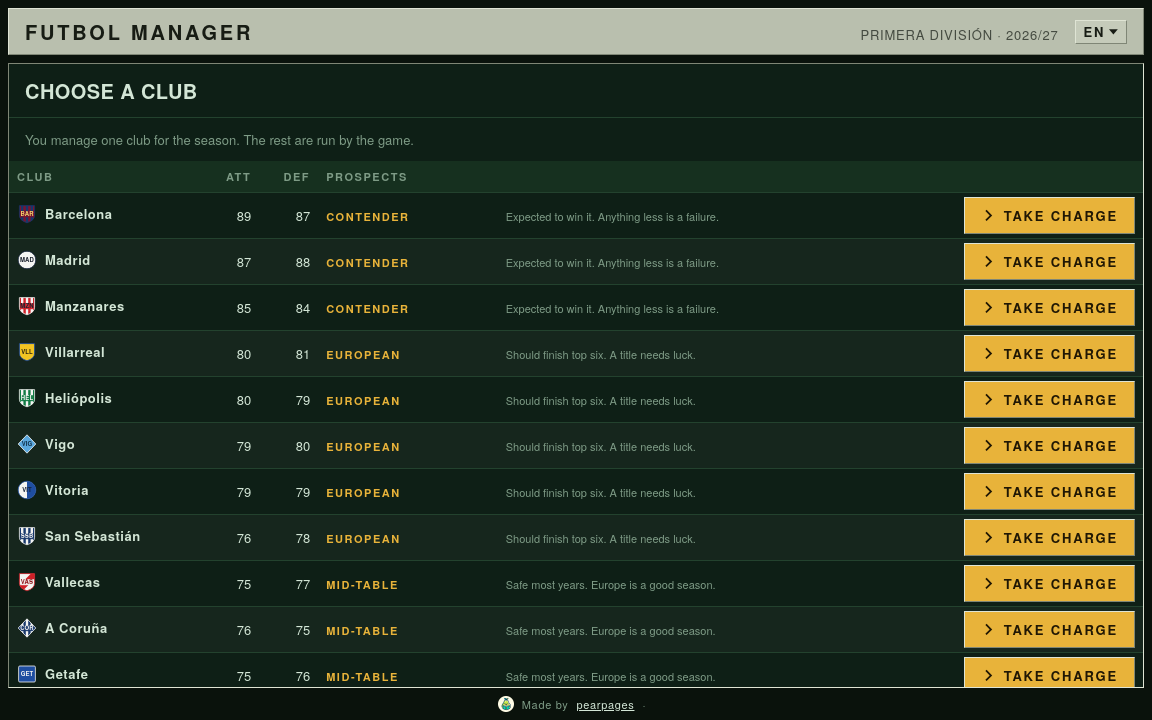
Scenario: the language button › is reachable before a career exists
Click the button "EN": coordinates (1101, 32) [1074,20,1127,44]
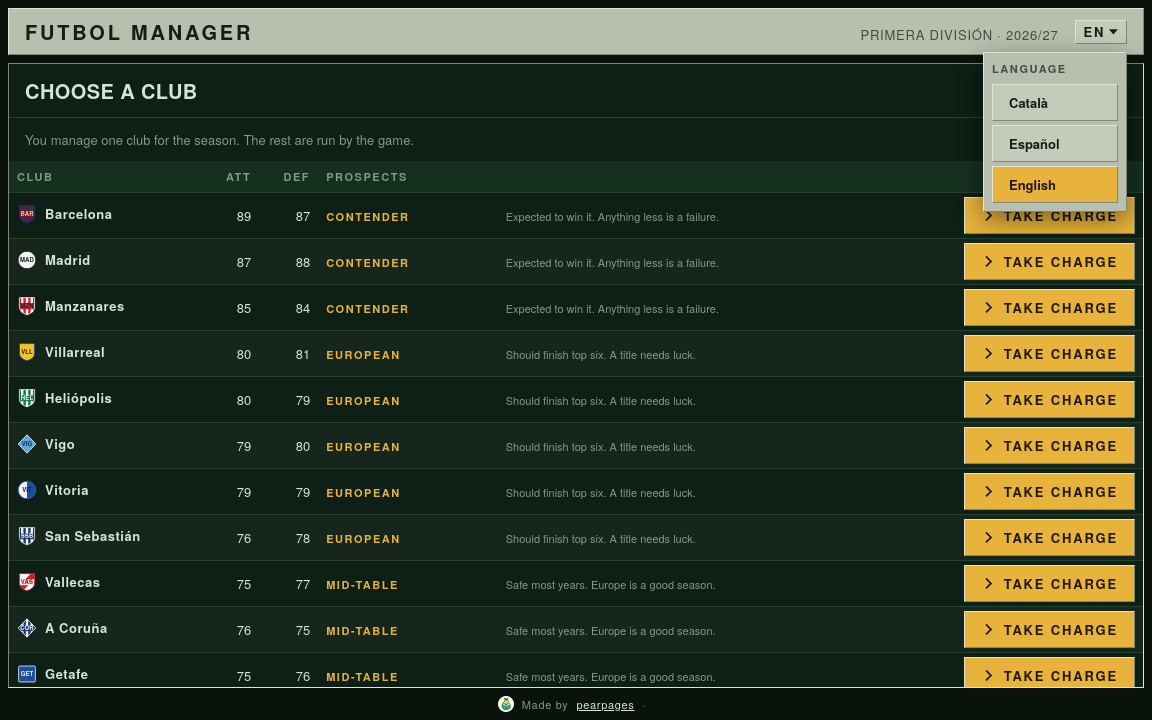
Expected: the button "Català" is shown, [992,84,1118,121]
